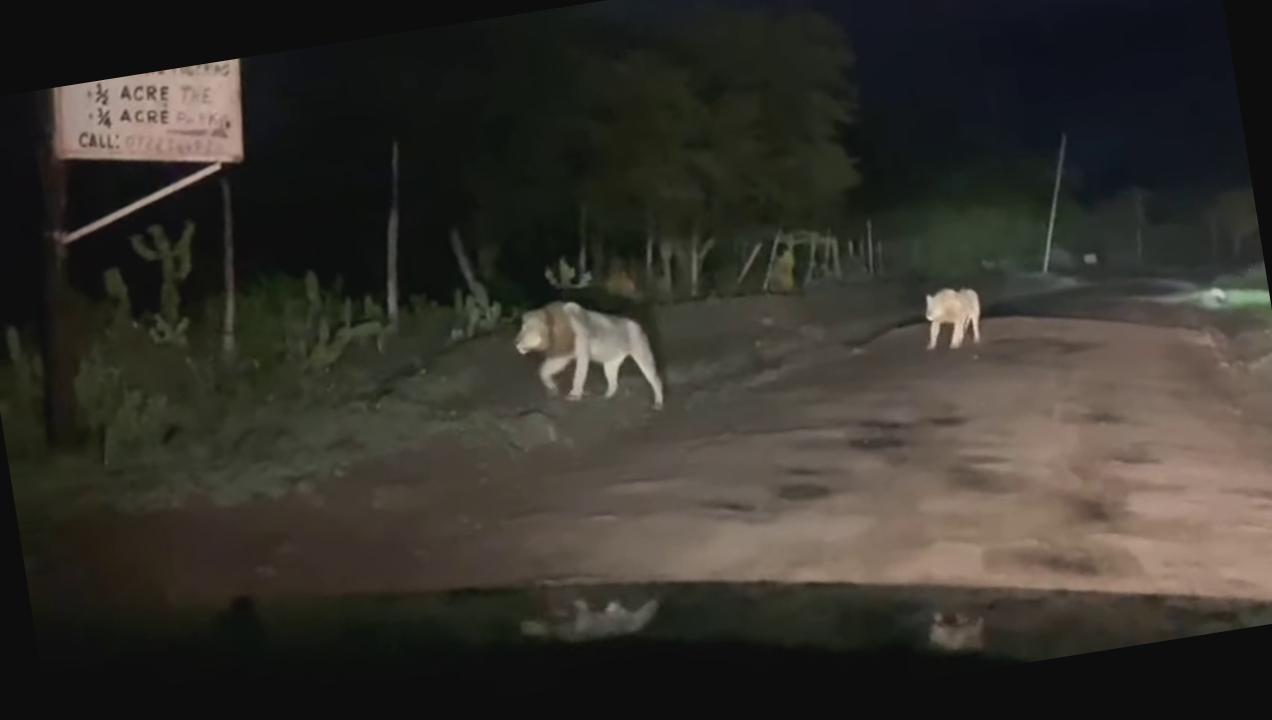lions: (500, 270, 692, 446), (907, 271, 1000, 370)
